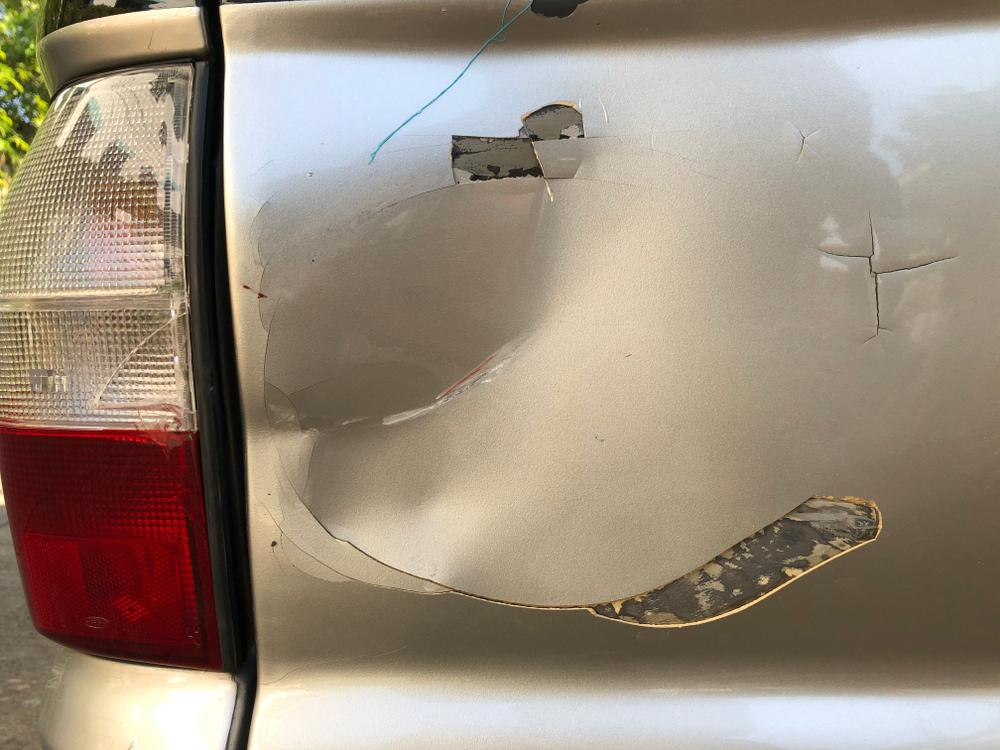dent: (263, 151, 687, 581)
lamp broken: (0, 60, 222, 674)
